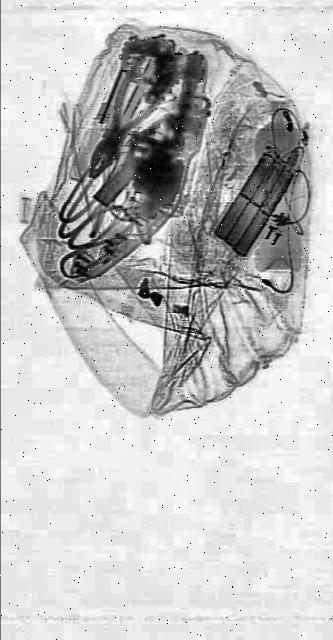Pliers: (78, 46, 166, 202)
